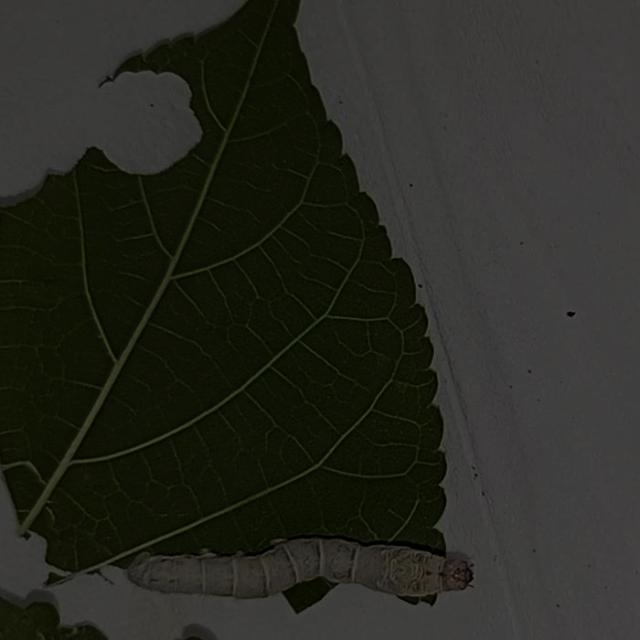Healthy: (119, 514, 488, 620)
